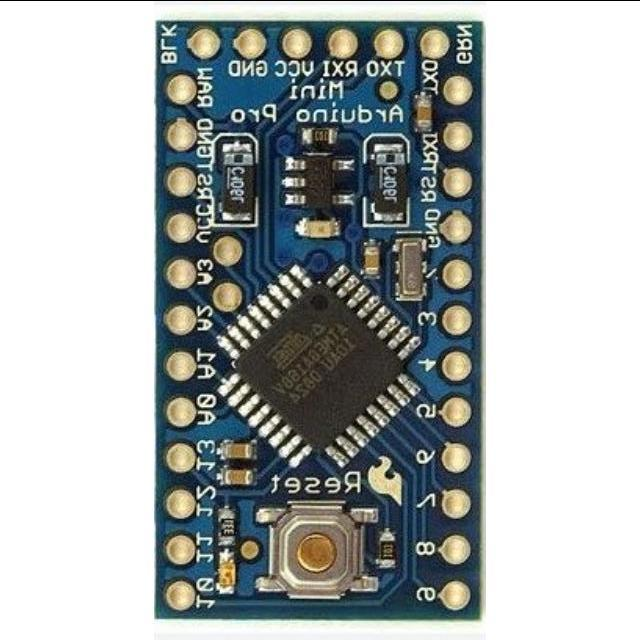Arduino-ProMini: (157, 14, 484, 634)
